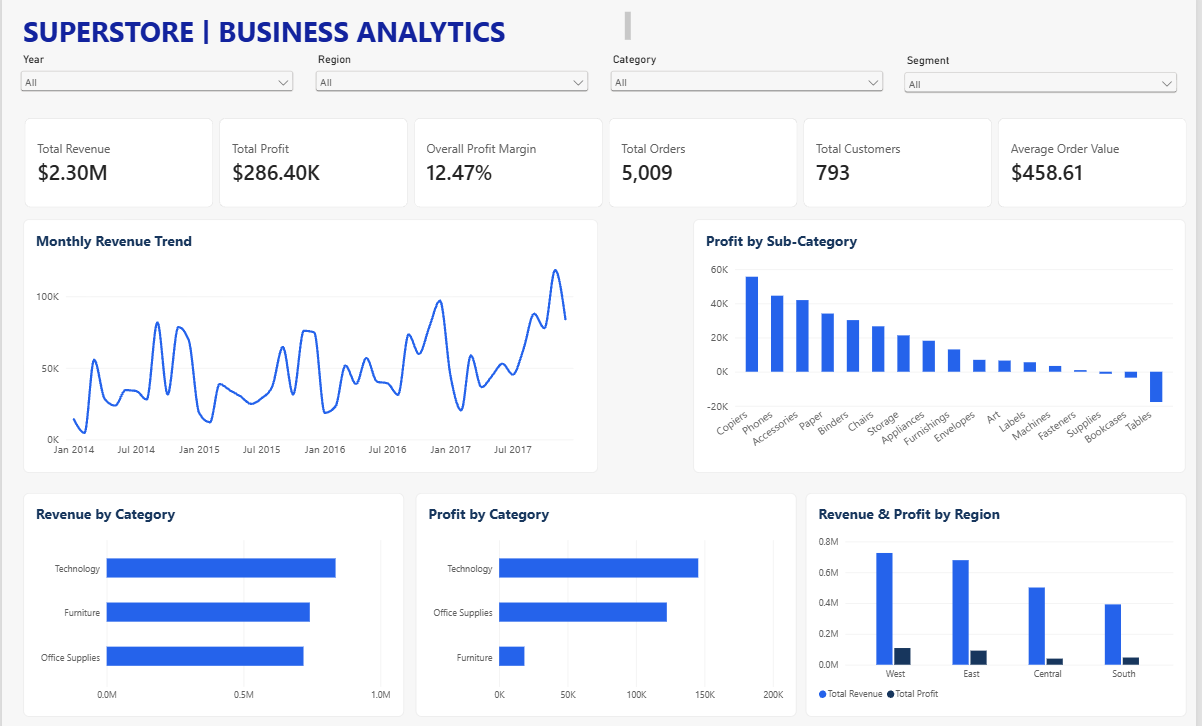

What the dashboard file says about the page in this screenshot:
{"tool":"powerbi","page":{"name":"Executive Overview.","canvas":[1600,1000],"ordinal":0},"visuals":[{"type":"cardVisual","fields":{"Data":["superstore_cleaned.Total Revenue","superstore_cleaned.Total Profit","superstore_cleaned.Overall Profit Margin","superstore_cleaned.Total Orders Display","superstore_cleaned.Total Customers","superstore_cleaned.Average Order Value"]},"box":[30.2,167.6,1560,120],"z":0},{"type":"clusteredBarChart","title":"\tRevenue by Category","fields":{"Category":["superstore_cleaned.Category"],"Y":["superstore_cleaned.Total Revenue"]},"box":[28.5,670.2,510,300],"z":2},{"type":"clusteredBarChart","title":"Profit by Category","fields":{"Category":["superstore_cleaned.Category"],"Y":["superstore_cleaned.Total Profit"]},"box":[554.6,670.2,510,300],"z":3},{"type":"clusteredColumnChart","title":"Profit by Sub-Category","fields":{"Category":["superstore_cleaned.Sub-Category"],"Y":["superstore_cleaned.Total Profit"]},"box":[926.6,303.3,660,340],"z":4},{"type":"clusteredColumnChart","title":"\tRevenue & Profit by Region","fields":{"Category":["superstore_cleaned.Region"],"Y":["superstore_cleaned.Total Revenue","superstore_cleaned.Total Profit"]},"box":[1077.4,670.2,510,300],"z":5},{"type":"lineChart","title":"\tMonthly Revenue Trend","fields":{"Category":["superstore_cleaned.Order Date.Variation.Date Hierarchy.Year","superstore_cleaned.Order Date.Variation.Date Hierarchy.Quarter","superstore_cleaned.Order Date.Variation.Date Hierarchy.Month","superstore_cleaned.Order Date.Variation.Date Hierarchy.Day"],"Y":["superstore_cleaned.Total Revenue"]},"box":[28.5,303.3,770,340],"z":6},{"type":"textbox","box":[28.5,25.1,814.3,43.6],"z":7},{"type":"slicer","fields":{"Values":["superstore_cleaned.Year"]},"box":[20,80,375,80],"z":8},{"type":"slicer","fields":{"Values":["superstore_cleaned.Category"]},"box":[811,80,375,80],"z":9},{"type":"slicer","fields":{"Values":["superstore_cleaned.Segment"]},"box":[1205,82.1,375,80],"z":10},{"type":"slicer","fields":{"Values":["superstore_cleaned.Region"]},"box":[415,80,375,80],"z":11}]}

Visuals, with their boxes on the page's 1600x1000 design canvas (x1, y1, x2, y2). These are canvas units, not pixel positions in the 1202x726 screenshot, which may show the page scaled, cropped or inside an application window:
cardVisual - superstore_cleaned.Total Revenue x superstore_cleaned.Total Profit: rect(30, 168, 1590, 288)
"	Revenue by Category" clusteredBarChart: rect(28, 670, 538, 970)
"Profit by Category" clusteredBarChart: rect(555, 670, 1065, 970)
"Profit by Sub-Category" clusteredColumnChart: rect(927, 303, 1587, 643)
"	Revenue & Profit by Region" clusteredColumnChart: rect(1077, 670, 1587, 970)
"	Monthly Revenue Trend" lineChart: rect(28, 303, 798, 643)
textbox: rect(28, 25, 843, 69)
slicer - superstore_cleaned.Year: rect(20, 80, 395, 160)
slicer - superstore_cleaned.Category: rect(811, 80, 1186, 160)
slicer - superstore_cleaned.Segment: rect(1205, 82, 1580, 162)
slicer - superstore_cleaned.Region: rect(415, 80, 790, 160)
